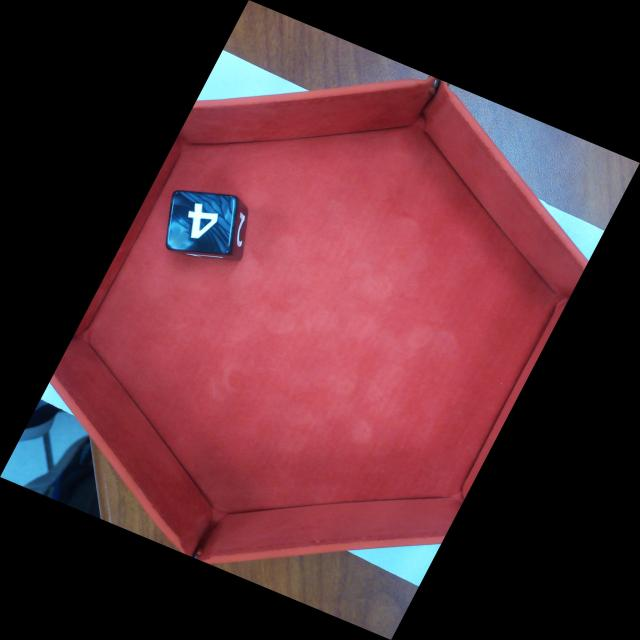dice: (164, 190, 239, 256)
